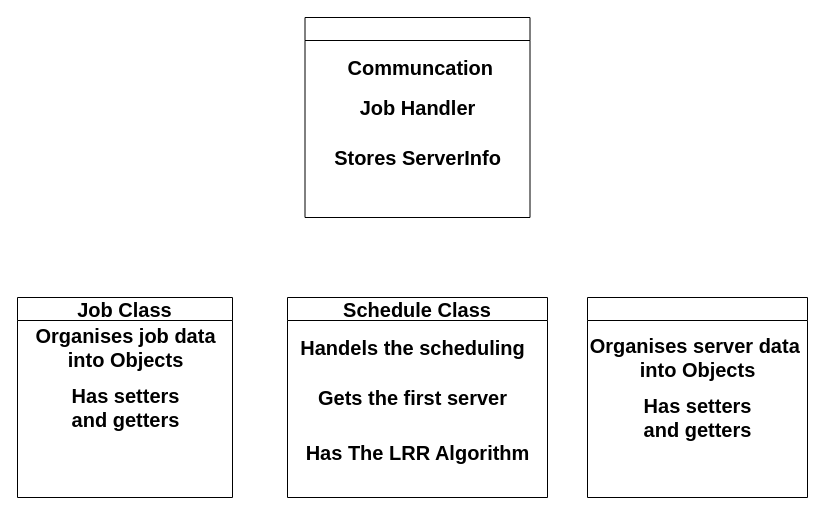
Some shapes in this 835 by 515 pixel diagram are drawn without their labels. Each missing label, with the box of its shape:
Client Class: (304, 16, 530, 218)
ServerInfo: (586, 296, 808, 498)
